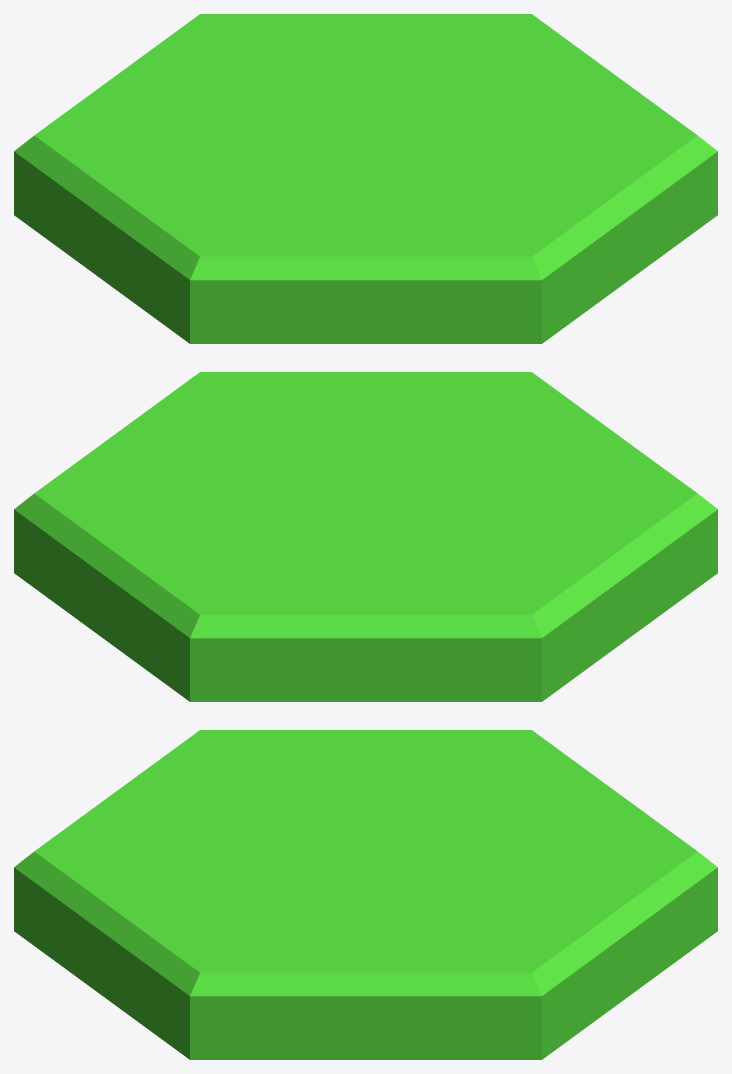
The model's file is tile_empty.fbx.
The picture shows the model from 3 angles, top to bottom: view 1: azimuth 30°, elevation 25°; view 2: azimuth 150°, elevation 25°; view 3: azimuth 270°, elevation 25°; orthographic projection.
Visible parts, largest first — view 1: Pad; view 2: Pad; view 3: Pad.
Boxes of the visible parts, left/top/right/bottom form: Pad: left=14, top=14, right=717, bottom=343; Pad: left=14, top=372, right=717, bottom=701; Pad: left=14, top=730, right=717, bottom=1059.
Bounding box in the file's own units: 346 × 50 × 400.
